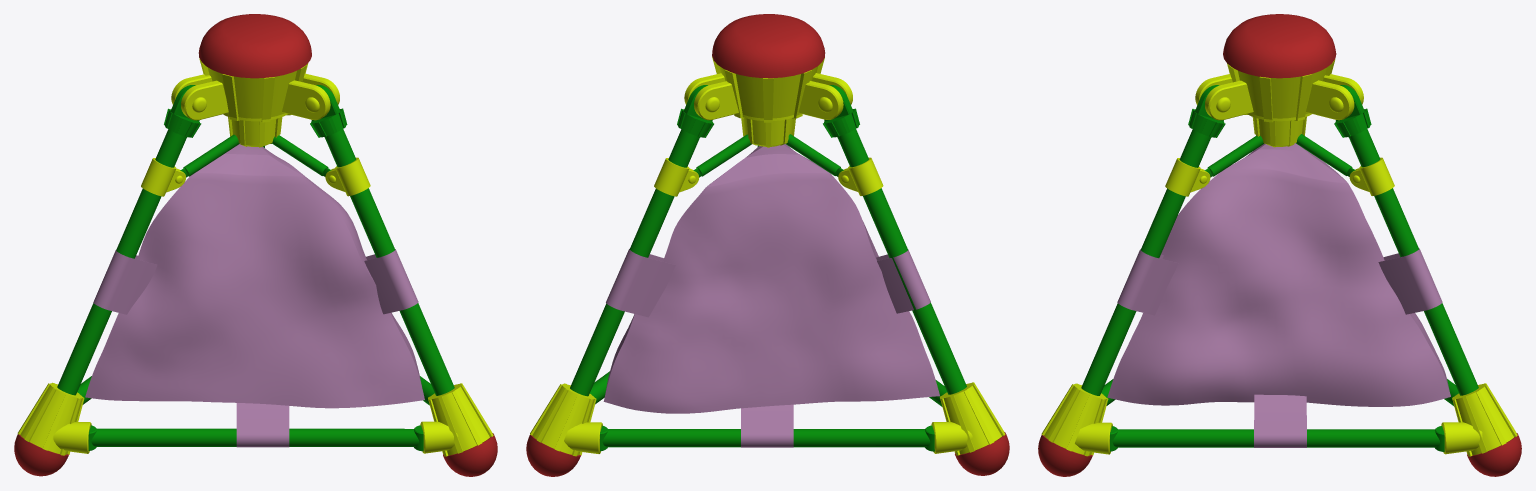
The model's file is splat bomb.fbx.
The picture shows the model from 3 angles, left to right: view 1: azimuth 30°, elevation 25°; view 2: azimuth 150°, elevation 25°; view 3: azimuth 270°, elevation 25°; orthographic projection.
Visible parts, largest first — view 1: splat_bomb1; view 2: splat_bomb1; view 3: splat_bomb1.
Boxes of the visible parts, x1=… form: splat_bomb1: x1=14, y1=14, x2=497, y2=476; splat_bomb1: x1=526, y1=14, x2=1009, y2=476; splat_bomb1: x1=1038, y1=14, x2=1521, y2=476.
Size of the model in its own units: 86.53 by 88.22 by 98.31.
